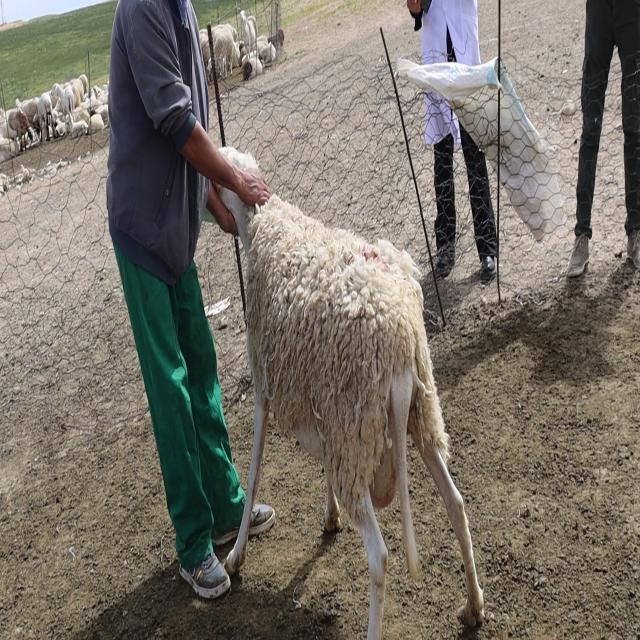Score_4: (220, 188, 484, 639)
